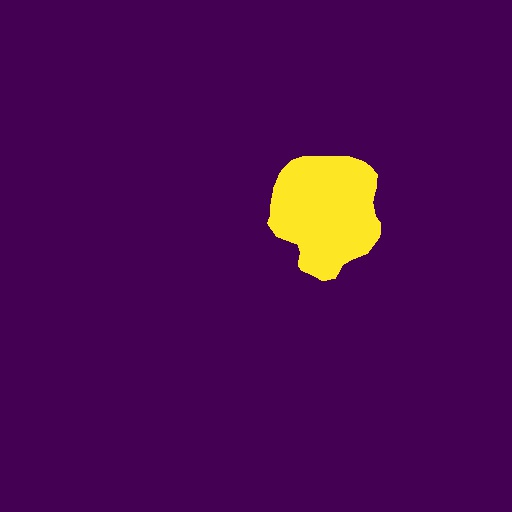Menigiomia_tumour: (267, 156, 381, 281)
